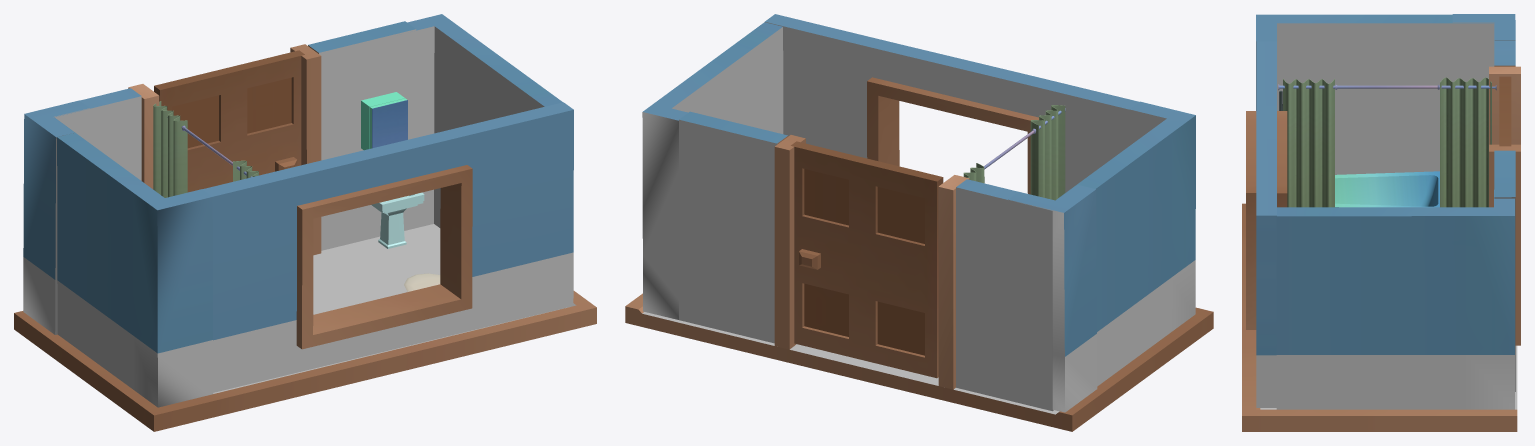
Rendered from BAÑO.fbx.
The picture shows the model from 3 angles, left to right: view 1: azimuth 30°, elevation 25°; view 2: azimuth 150°, elevation 25°; view 3: azimuth 270°, elevation 25°; orthographic projection. The views are drawn at different scales.
Parts seen in each view (by area): view 1: paret_ventana7, paret_estrecha8, suelo14, paret_puerta44, puerta33, paret_estrecha7, paret_esquina_76, cortina2, cajon2, pica2; view 2: paret_puerta44, puerta33, paret_ventana7, paret_estrecha8, paret_estrecha7, suelo14, paret_esquina_76, cortina2; view 3: paret_estrecha7, paret_estrecha8, cortina2, paret_ventana7, suelo14, paret_puerta44, bañera2, paret_esquina_76, puerta33.
Part boxes in pixels (x1,y1,x2,y2): paret_ventana7: [202, 102, 573, 392]; paret_estrecha8: [54, 117, 213, 407]; suelo14: [14, 224, 596, 431]; paret_puerta44: [54, 21, 416, 255]; puerta33: [154, 50, 304, 192]; paret_estrecha7: [397, 14, 562, 230]; paret_esquina_76: [23, 100, 89, 334]; cortina2: [153, 101, 258, 197]; cajon2: [361, 92, 407, 150]; pica2: [371, 192, 424, 248]; paret_puerta44: [679, 111, 1053, 411]; puerta33: [791, 141, 943, 378]; paret_ventana7: [765, 14, 1139, 194]; paret_estrecha8: [1055, 101, 1195, 386]; paret_estrecha7: [642, 22, 783, 319]; suelo14: [625, 293, 1213, 431]; paret_esquina_76: [1008, 185, 1097, 412]; cortina2: [963, 105, 1065, 200]; paret_estrecha7: [1276, 190, 1514, 409]; paret_estrecha8: [1256, 14, 1494, 174]; cortina2: [1278, 77, 1496, 207]; paret_ventana7: [1246, 41, 1287, 407]; suelo14: [1242, 203, 1517, 431]; paret_puerta44: [1489, 20, 1520, 391]; bañera2: [1279, 91, 1439, 207]; paret_esquina_76: [1452, 14, 1515, 40]; puerta33: [1499, 76, 1511, 146].
Size of the model in its own units: 791 by 365 by 439.
